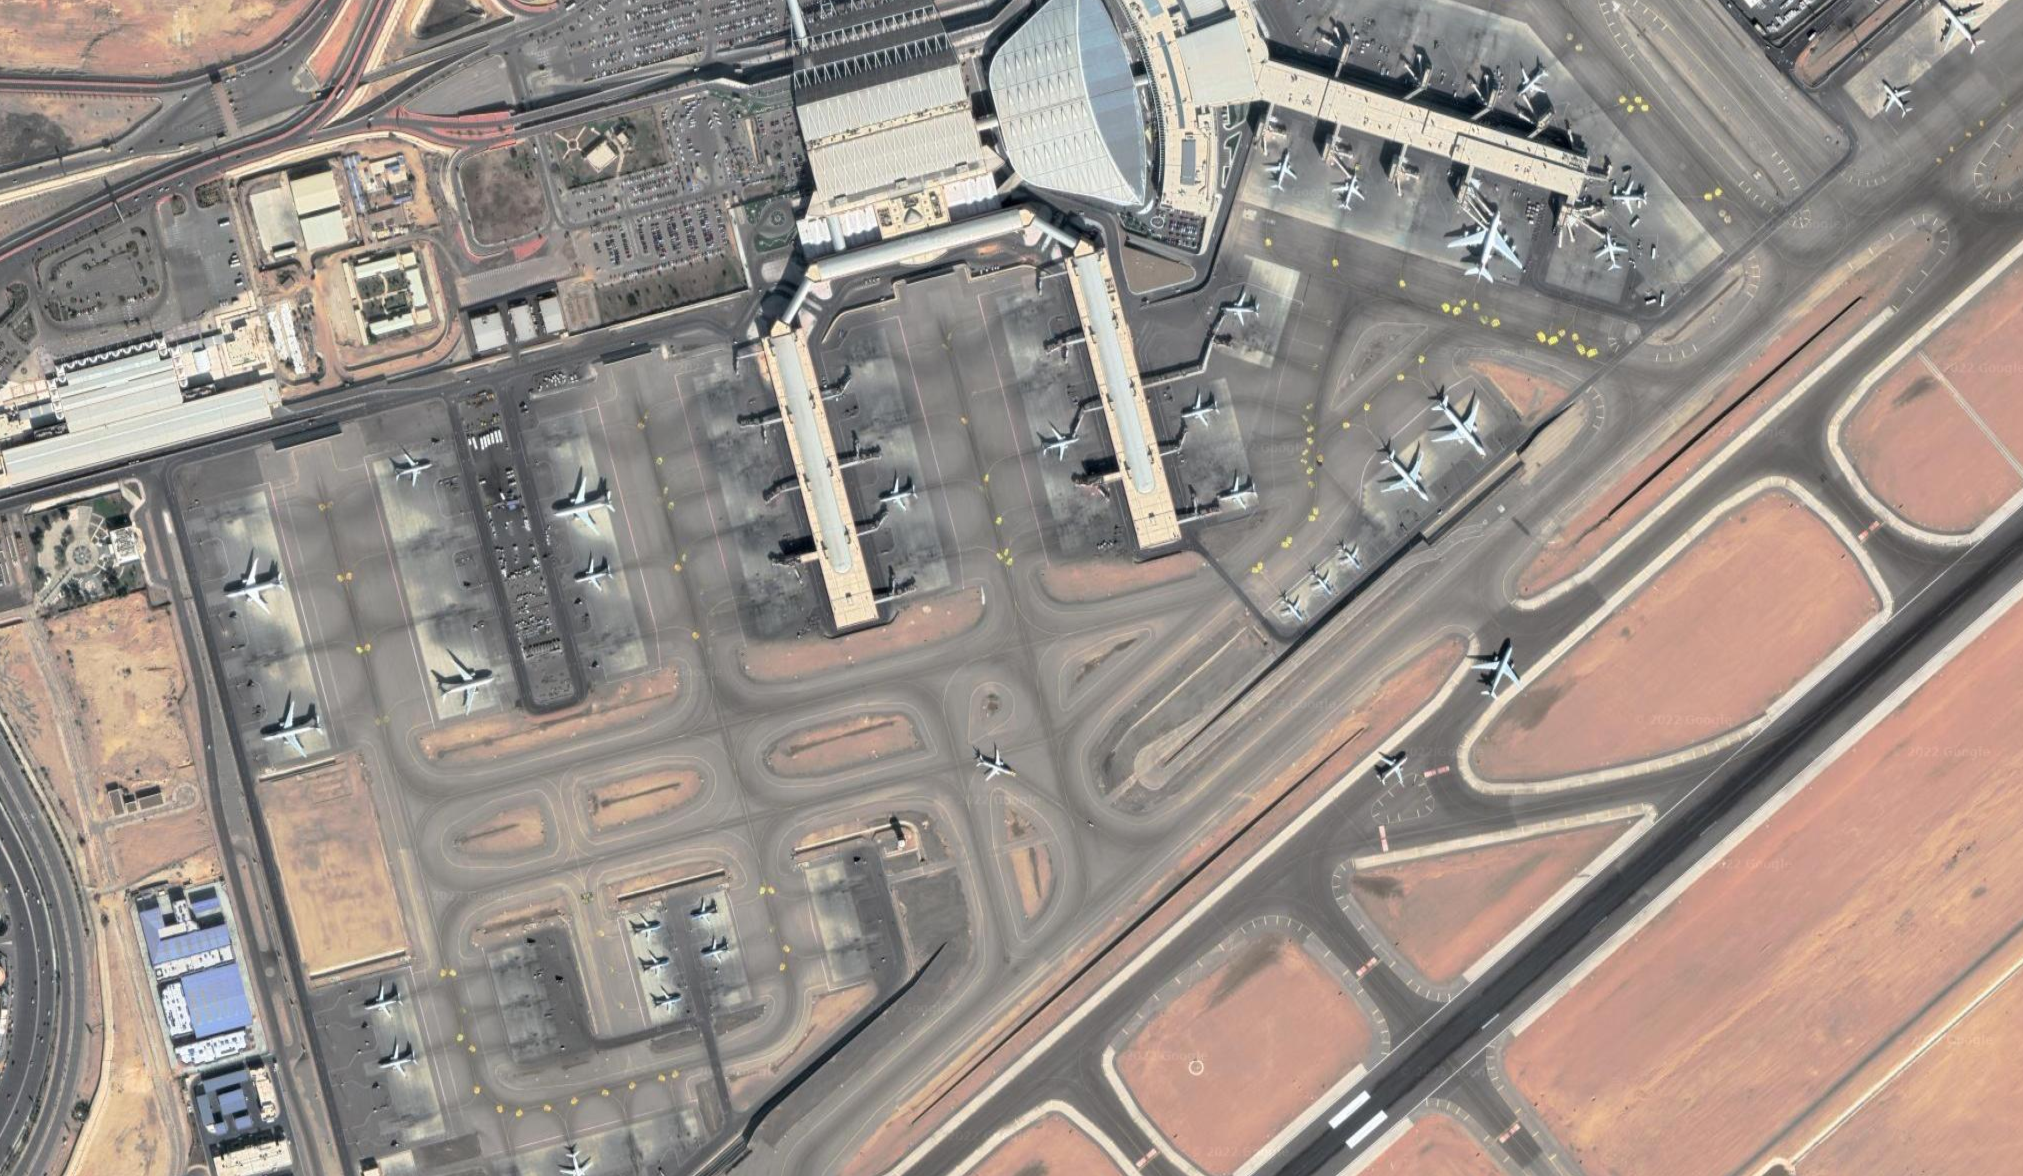plane: (1446, 210, 1525, 286), (260, 699, 322, 759), (554, 476, 616, 535), (437, 655, 494, 717), (223, 559, 286, 615), (1432, 396, 1488, 458), (1471, 645, 1522, 701), (1379, 449, 1429, 503), (1936, 1, 1987, 55), (378, 1042, 419, 1078), (1179, 393, 1221, 428), (1037, 427, 1082, 459), (1595, 231, 1630, 272), (976, 748, 1016, 783), (1217, 476, 1259, 510), (392, 452, 431, 487), (365, 986, 406, 1019), (1331, 174, 1366, 211), (1880, 83, 1915, 120), (1222, 293, 1261, 326), (574, 557, 613, 591), (1266, 150, 1298, 190), (1611, 182, 1648, 213), (1378, 752, 1408, 788), (631, 911, 661, 944), (1518, 69, 1547, 99), (650, 986, 682, 1014), (559, 1151, 594, 1176), (640, 949, 669, 979), (1308, 566, 1334, 596), (1277, 591, 1303, 622), (701, 937, 729, 965), (692, 897, 718, 925), (1336, 542, 1361, 571)
